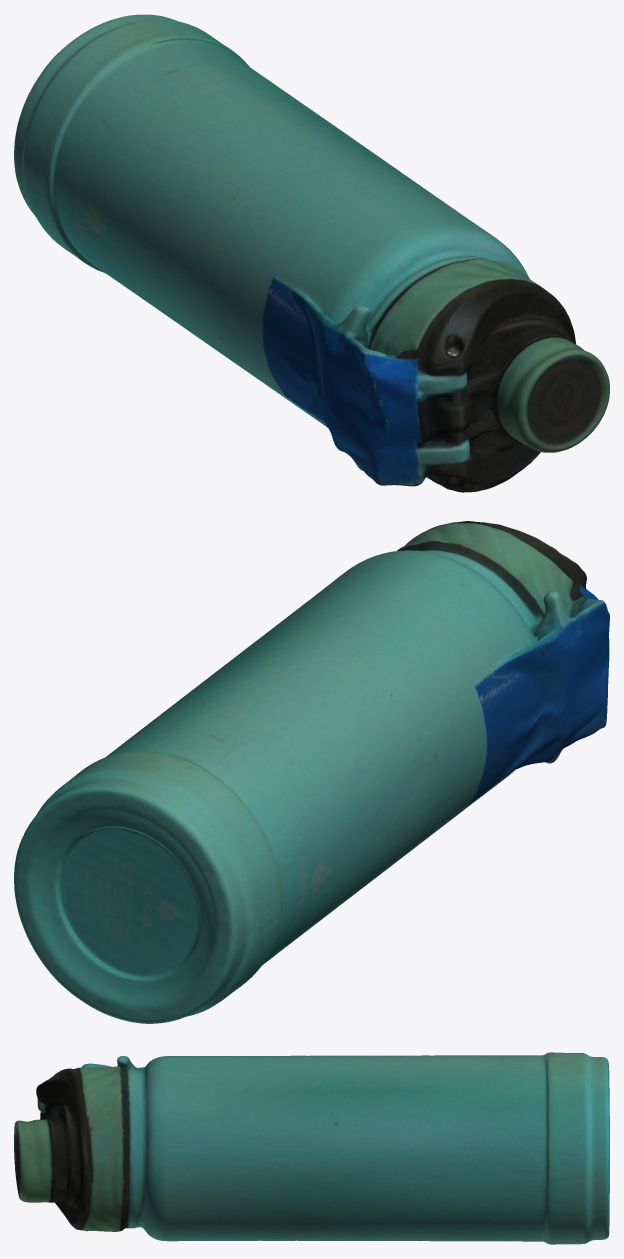
The model's file is cyan_water_bottle.glb.
3 renders of one model, top to bottom at view 1: azimuth 30°, elevation 25°; view 2: azimuth 150°, elevation 25°; view 3: azimuth 270°, elevation 25°, orthographic. The views are drawn at different scales.
Visible parts, largest first — view 1: cyanwaterbottle01; view 2: cyanwaterbottle01; view 3: cyanwaterbottle01.
Part boxes in pixels (x1,y1,x2,y2): cyanwaterbottle01: (14,14,609,492); cyanwaterbottle01: (14,521,609,1023); cyanwaterbottle01: (14,1052,609,1244).
Bounding box in the file's own units: 0.0921 × 0.0912 × 0.2832.
1 material, 1 textured.
